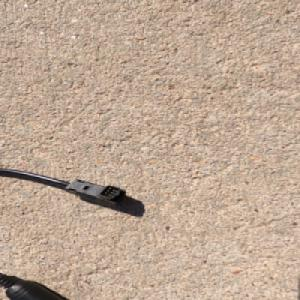Wire: (0, 166, 127, 300)
